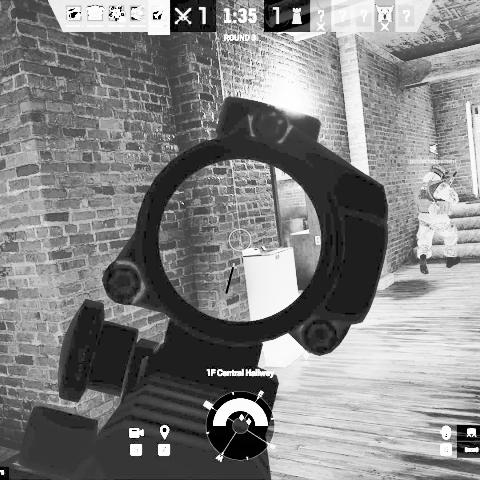Character: (408, 142, 461, 275)
Friend_label: (409, 143, 458, 164)
Head: (429, 164, 445, 180)
